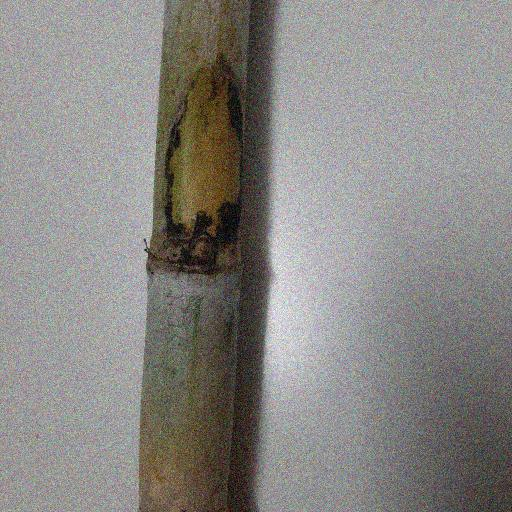Bud: (190, 234, 215, 266)
